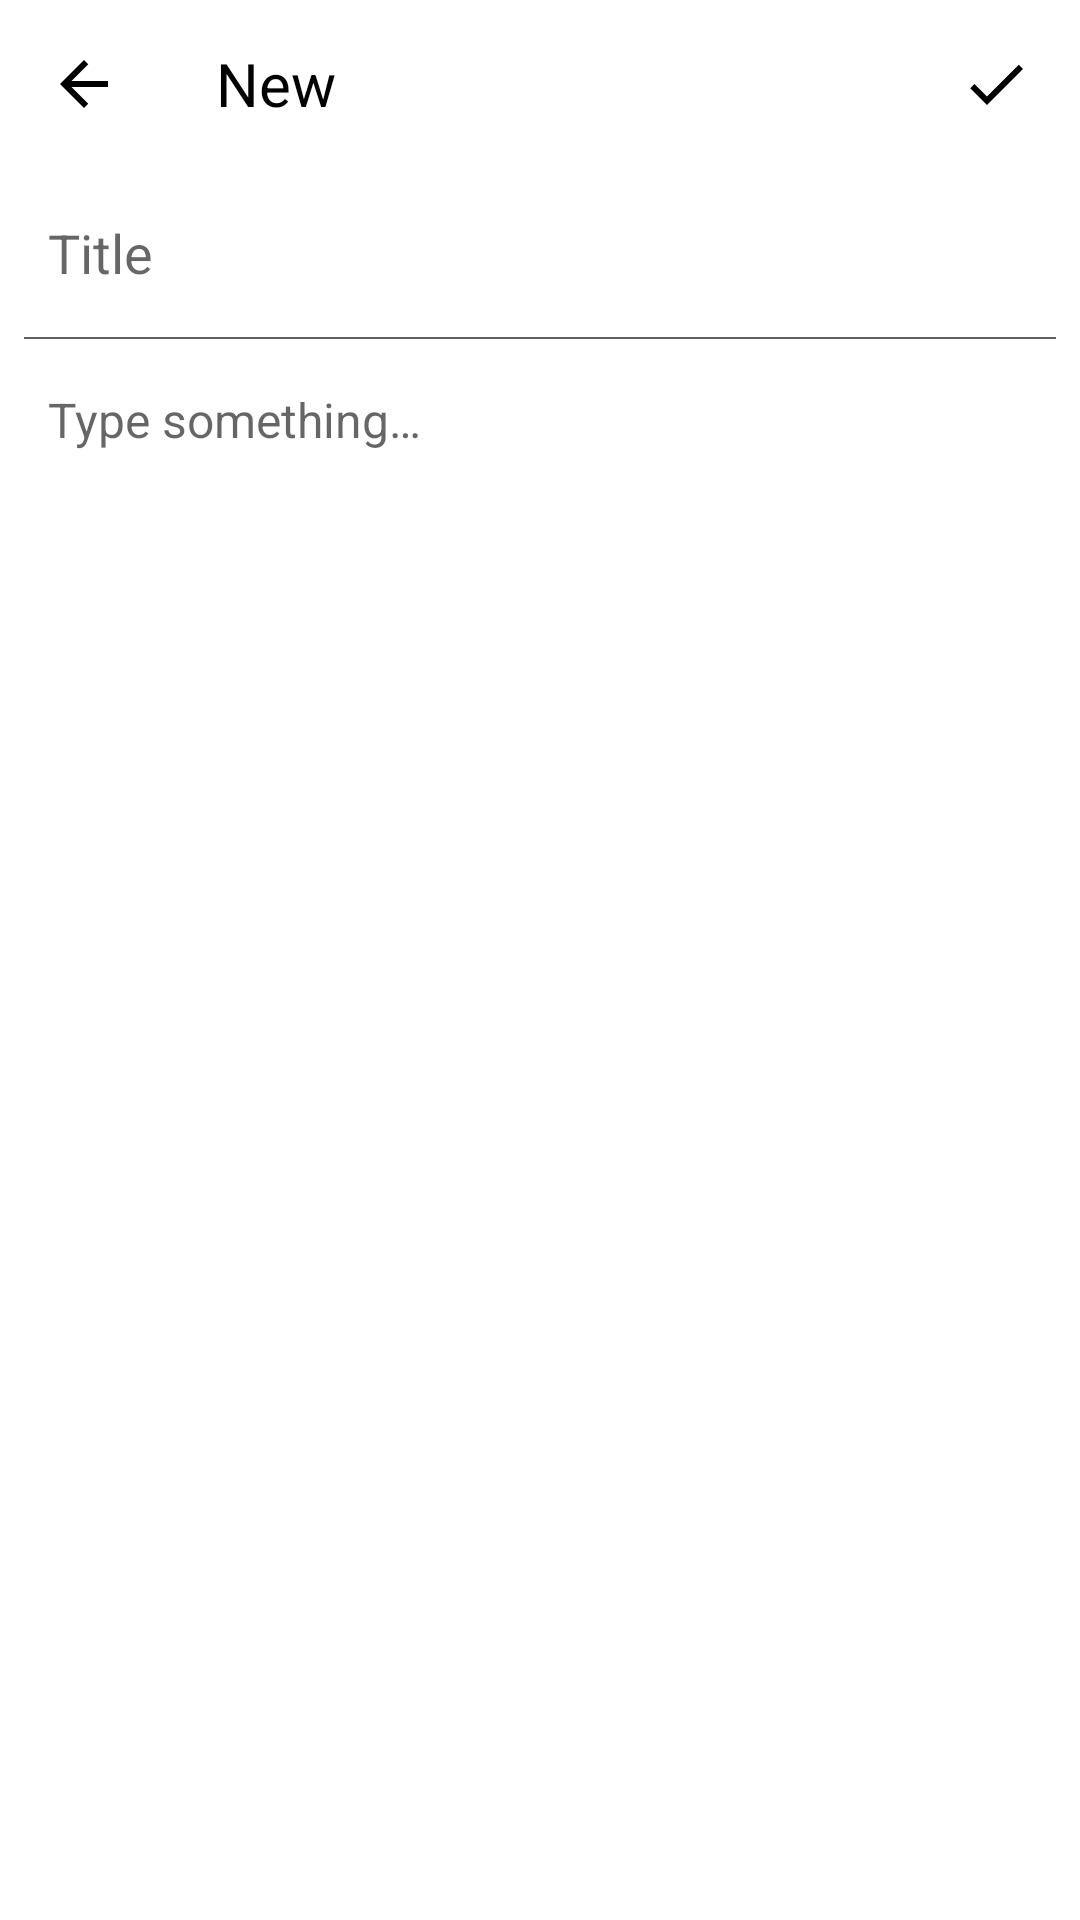

Screen size 1080px×1920px. Icon name, then its box in pixels as region(x1, y1, x2, y2):
arrow back: region(60, 60, 108, 108)
check: region(970, 65, 1023, 105)
